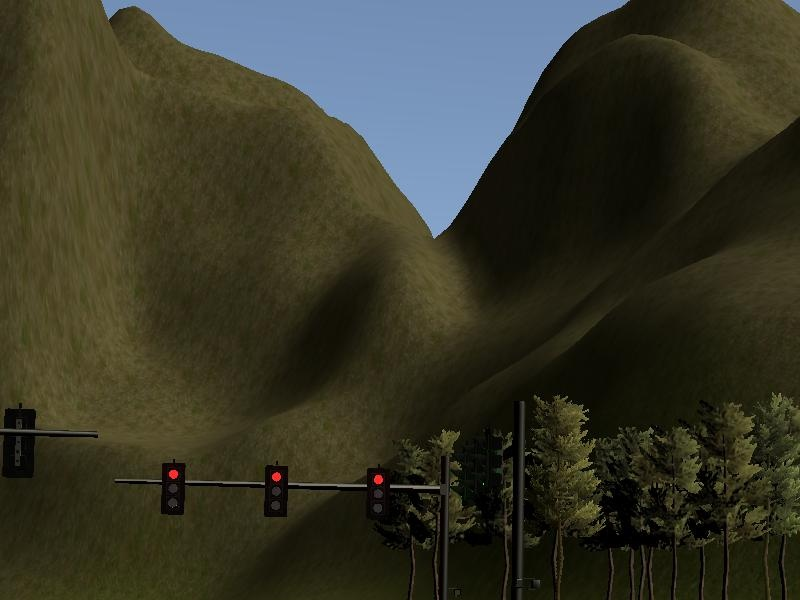red: (157, 459, 190, 523), (260, 459, 293, 523), (360, 462, 393, 526)
